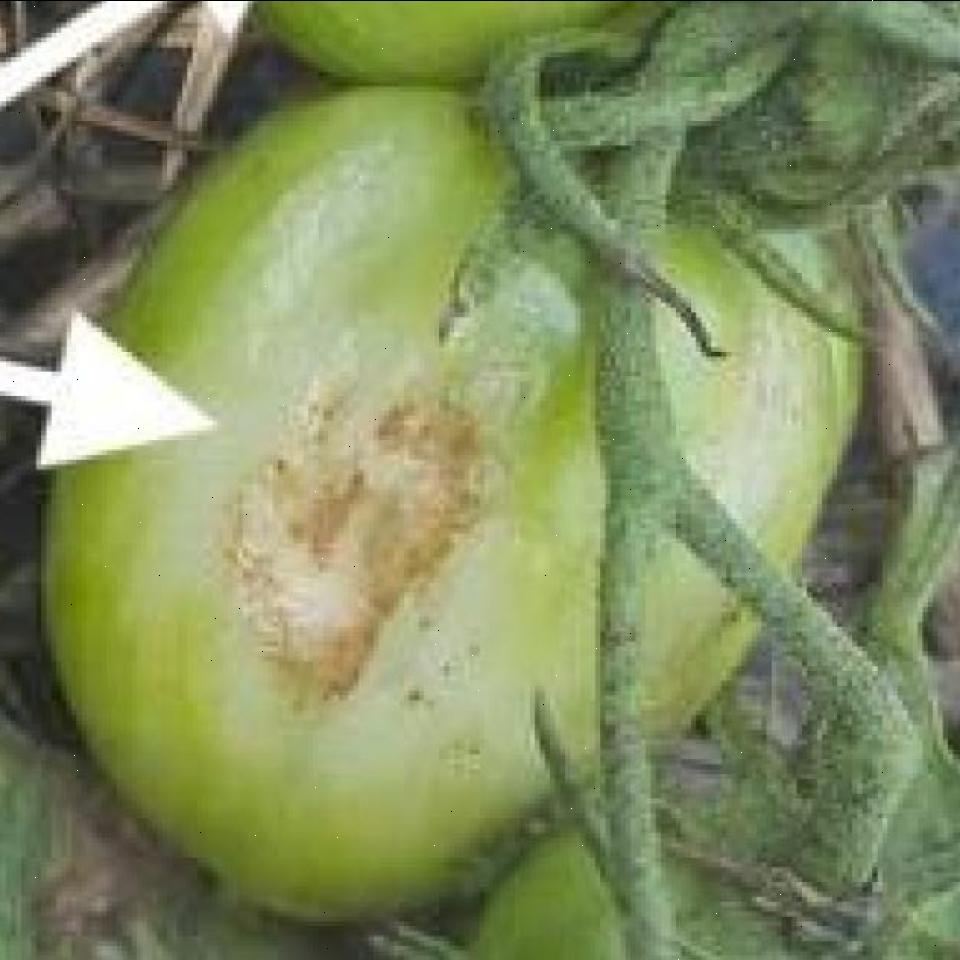Sunscald: (182, 309, 520, 747)
